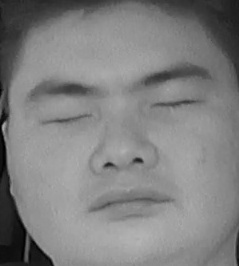blink: (39, 102, 95, 137), (150, 88, 200, 121)
mouth: (84, 179, 177, 225)
